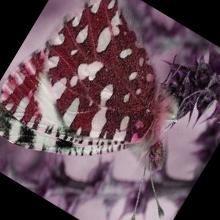butterfly: (0, 0, 164, 169)
